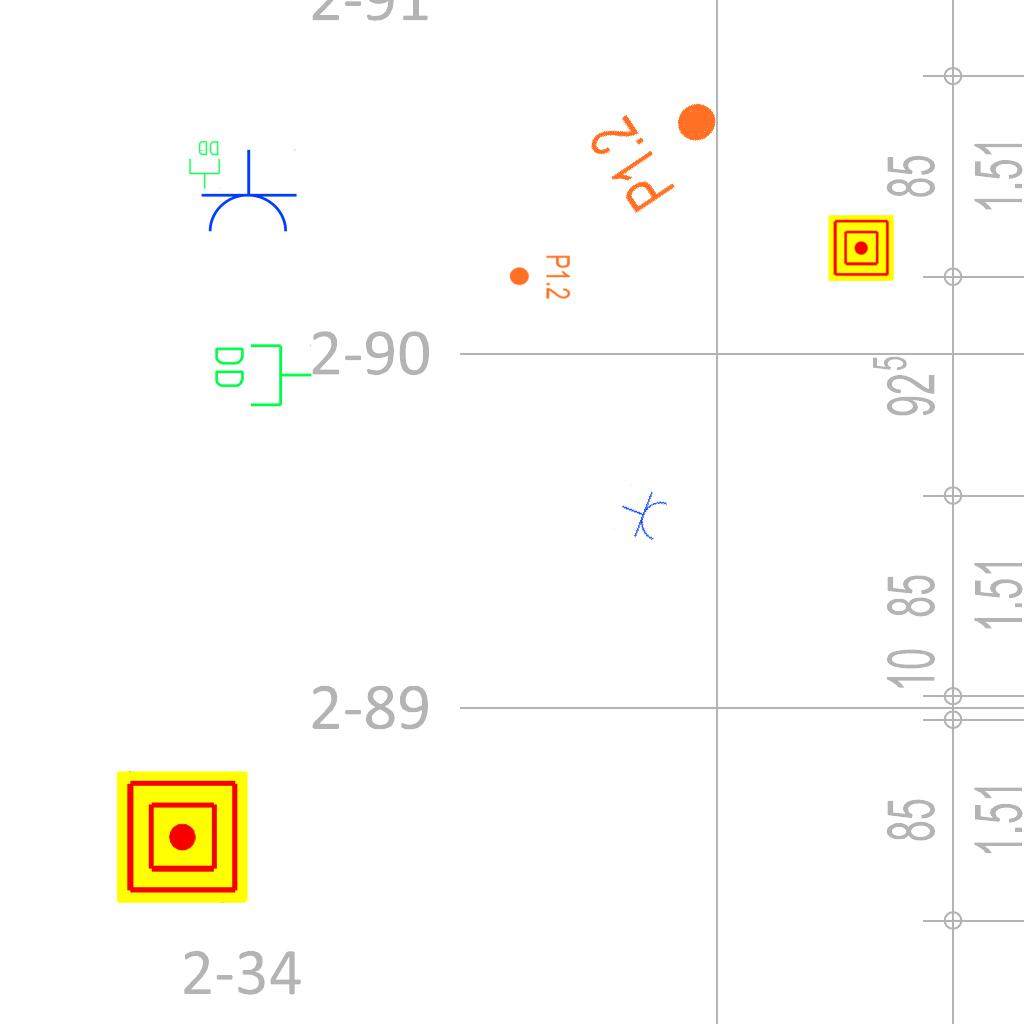Datenanschluss_zweifach: (211, 340, 314, 409), (188, 139, 222, 190)
Downlight_LED_Einbauleuchten_Flur: (582, 69, 741, 219), (508, 254, 572, 300)
NAM-Nichtautomatischer_Melder: (116, 771, 248, 903), (828, 215, 894, 281)
Schukosteckdose_einfach: (198, 149, 298, 236), (612, 483, 672, 546)
